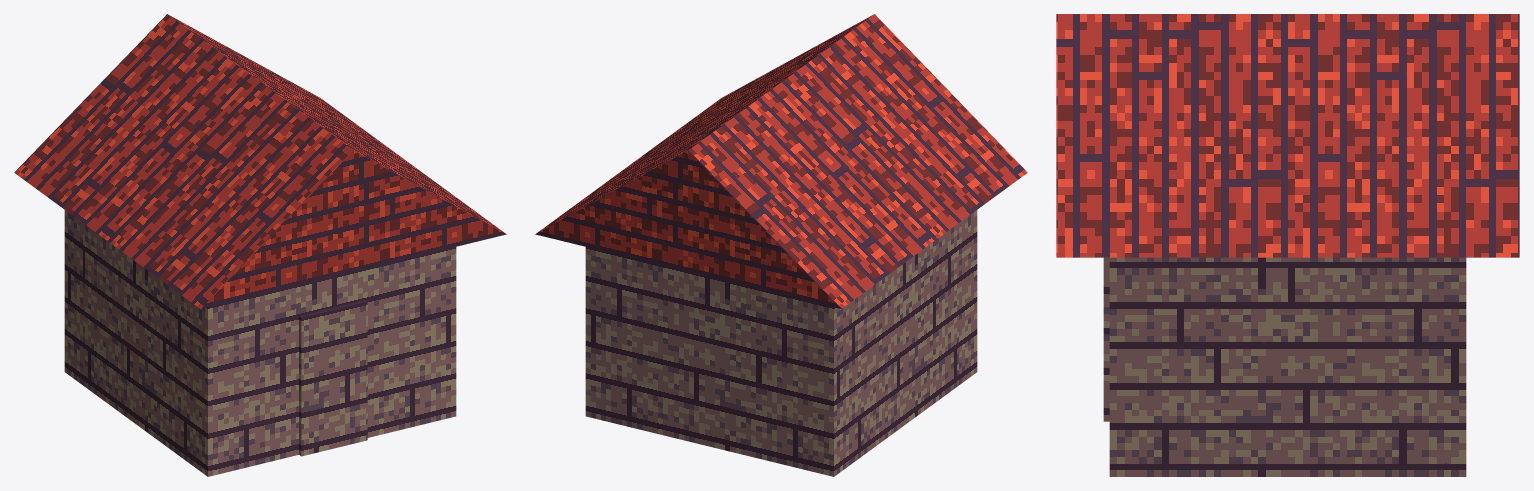
The model's file is a16_casas_cogumelo.glb.
3 renders of one model, left to right at view 1: azimuth 30°, elevation 25°; view 2: azimuth 150°, elevation 25°; view 3: azimuth 270°, elevation 25°, orthographic. The views are drawn at different scales.
Parts seen in each view (by area): view 1: a16_casas_cogumelo; view 2: a16_casas_cogumelo; view 3: a16_casas_cogumelo.
Part boxes in pixels (x1,y1,x2,y2): a16_casas_cogumelo: [14, 14, 506, 476]; a16_casas_cogumelo: [535, 14, 1027, 476]; a16_casas_cogumelo: [1056, 14, 1519, 476].
Bounding box in the file's own units: 3.7 × 3.6 × 3.9.
2 materials, 2 textured.
